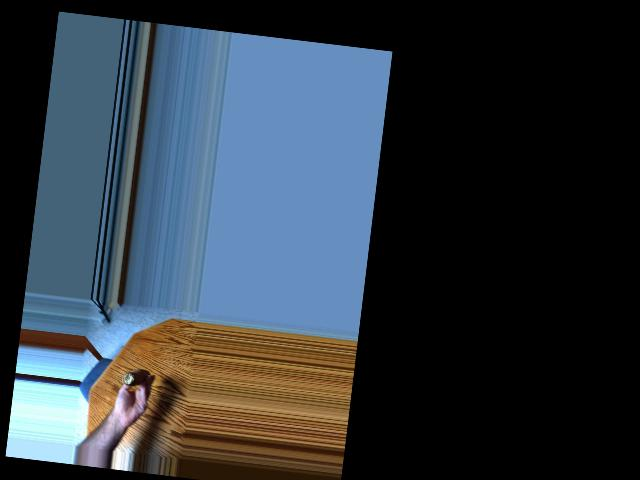sweet_potato: (117, 366, 151, 393)
